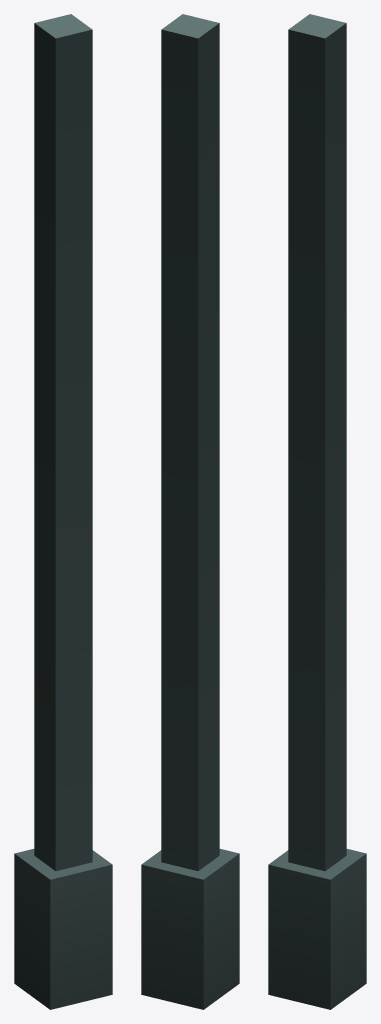
File: Metal_Fence_2D.fbx
3 views of the same model, side by side, from view 1: azimuth 30°, elevation 25°; view 2: azimuth 150°, elevation 25°; view 3: azimuth 330°, elevation 25° (orthographic).
Parts seen in each view (by area): view 1: Metal_Fence_2D; view 2: Metal_Fence_2D; view 3: Metal_Fence_2D.
Part boxes in pixels (x1,y1,x2,y2): Metal_Fence_2D: (14,14,112,1009); Metal_Fence_2D: (141,14,239,1009); Metal_Fence_2D: (268,14,366,1009).
Bounding box in the file's own units: 0.2367 × 3.5 × 0.2367.
